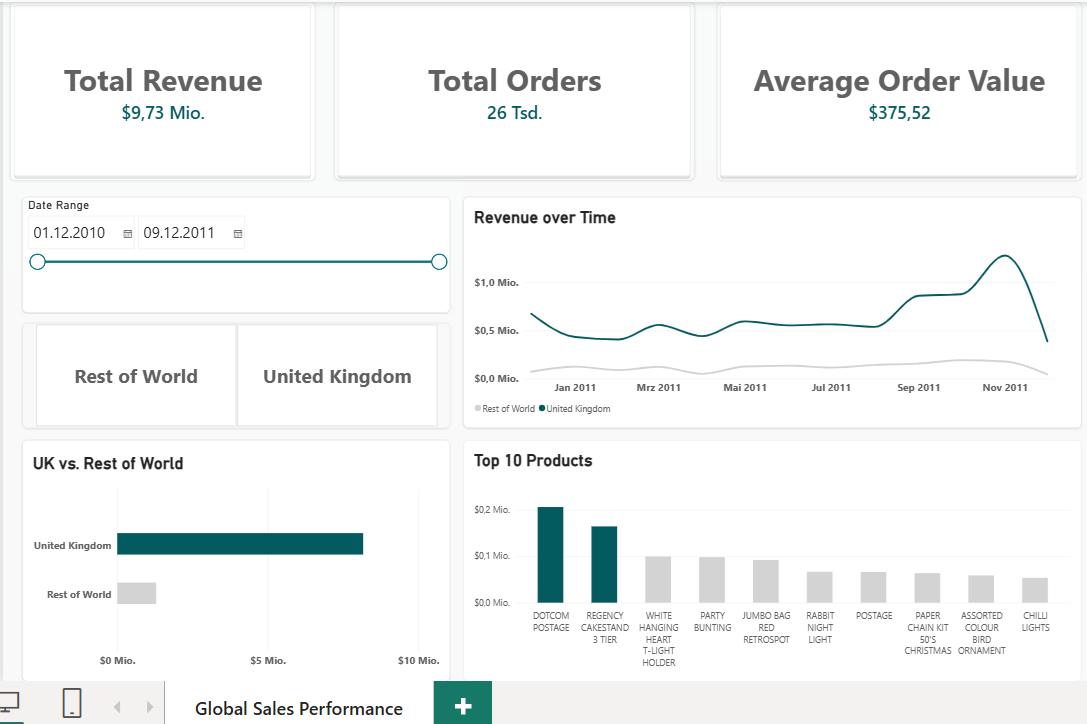

What the dashboard file says about the page in this screenshot:
{"tool":"powerbi","page":{"name":"Global Sales Performance","canvas":[1920,1080],"ordinal":0},"visuals":[{"type":"cardVisual","fields":{"Data":["fact_transactions.Total Revenue"]},"box":[11.9,0,484.3,283.9],"z":0},{"type":"cardVisual","fields":{"Data":["fact_transactions.Total Orders"]},"box":[527.2,0,572.6,283.5],"z":1000},{"type":"cardVisual","fields":{"Data":["fact_transactions.Average Order Value"]},"box":[1135.7,0,579.8,283.9],"z":2000},{"type":"barChart","title":"UK vs. Rest of World","fields":{"Y":["fact_transactions.Total Revenue"],"Category":["fact_transactions.Country_Group"]},"box":[31,696.7,680,384.1],"z":3000},{"type":"lineChart","title":"Revenue over Time","fields":{"Category":["fact_transactions.ReinesDatum.Variation.Datumshierarchie.Jahr","fact_transactions.ReinesDatum.Variation.Datumshierarchie.Quartal","fact_transactions.ReinesDatum.Variation.Datumshierarchie.Monat"],"Y":["fact_transactions.Total Revenue"],"Series":["fact_transactions.Country_Group"]},"box":[732.5,310.2,983,367.4],"z":4000},{"type":"slicer","fields":{"Values":["fact_transactions.ReinesDatum"]},"box":[31,310.2,680,183.7],"z":5000},{"type":"columnChart","title":"Top 10 Products","fields":{"Category":["fact_transactions.Description"],"Y":["fact_transactions.Total Revenue"]},"box":[732.5,696.7,983,384.1],"z":6000},{"type":"slicer","fields":{"Values":["fact_transactions.Country_Group"]},"box":[31,510.6,680,167],"z":7000}]}

Visuals, with their boxes on the page's 1920x1080 design canvas (x1, y1, x2, y2). These are canvas units, not pixel positions in the 1087x724 screenshot, which may show the page scaled, cropped or inside an application window:
cardVisual - fact_transactions.Total Revenue: left=12, top=0, right=496, bottom=284
cardVisual - fact_transactions.Total Orders: left=527, top=0, right=1100, bottom=284
cardVisual - fact_transactions.Average Order Value: left=1136, top=0, right=1716, bottom=284
"UK vs. Rest of World" barChart: left=31, top=697, right=711, bottom=1081
"Revenue over Time" lineChart: left=732, top=310, right=1716, bottom=678
slicer - fact_transactions.ReinesDatum: left=31, top=310, right=711, bottom=494
"Top 10 Products" columnChart: left=732, top=697, right=1716, bottom=1081
slicer - fact_transactions.Country_Group: left=31, top=511, right=711, bottom=678
